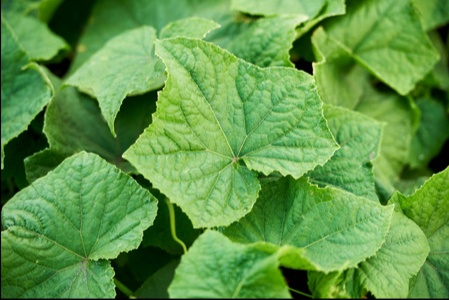cucumber_plant: (131, 32, 395, 298)
